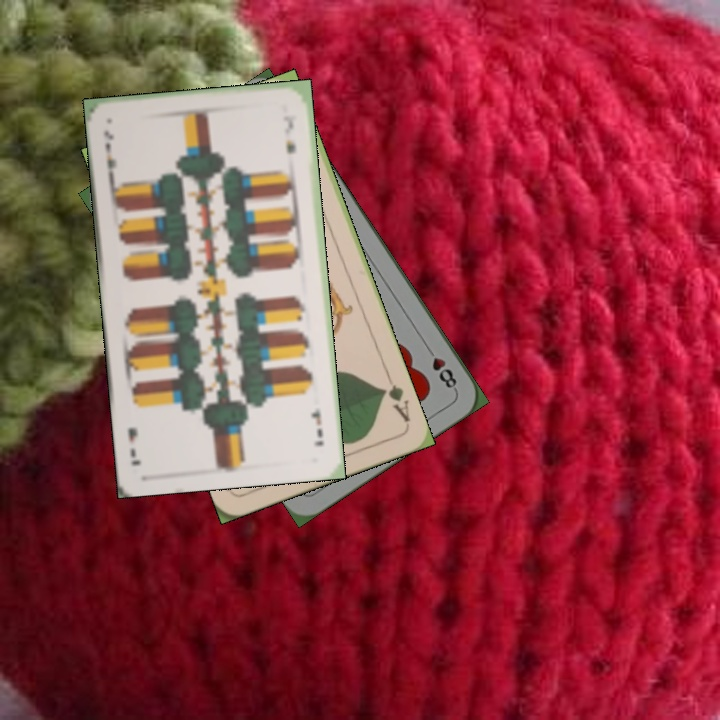E7: (100, 126, 120, 181), (307, 406, 326, 449)
GA: (377, 370, 413, 425)
H8: (421, 341, 460, 393)
